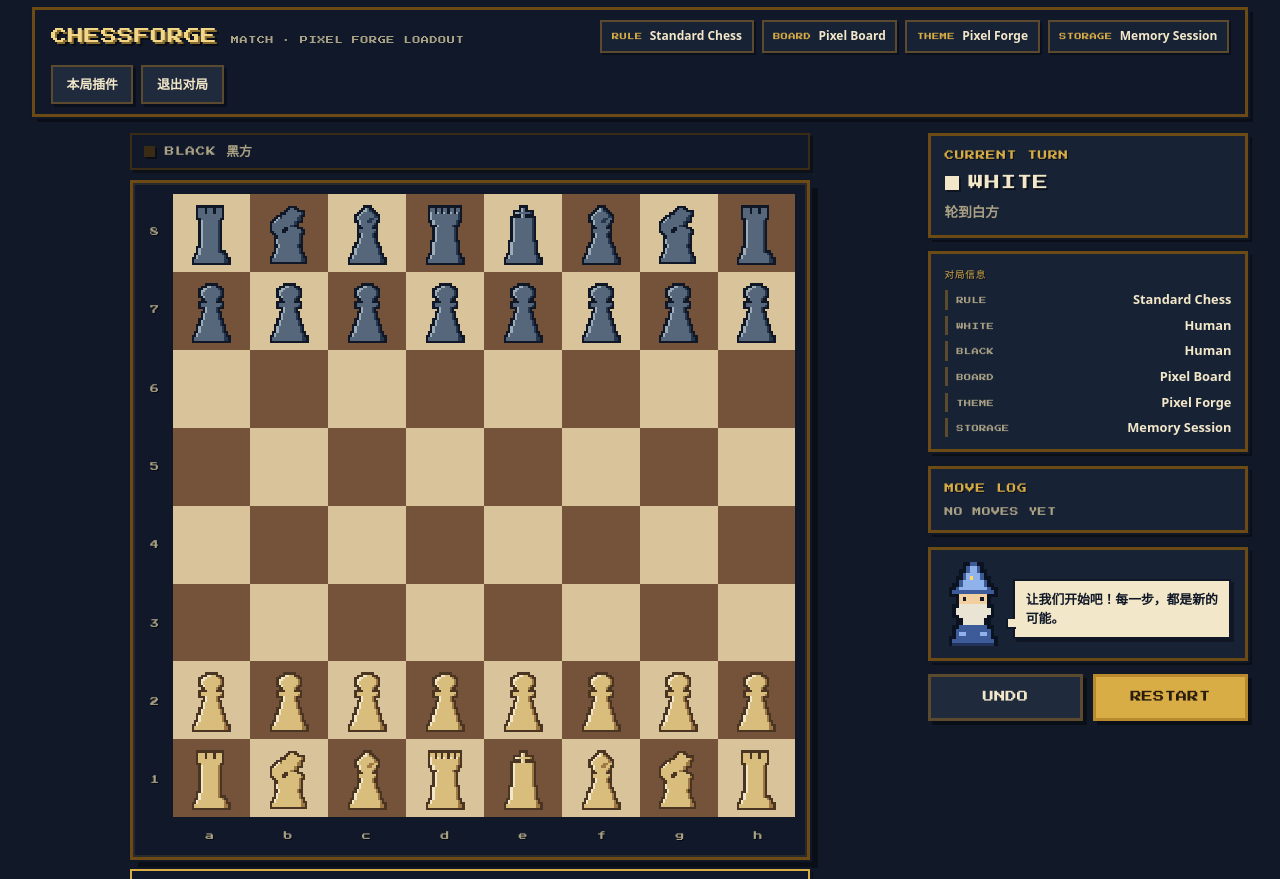
player bars frame the board and mark the side to move
The width and height of the screenshot is (1280, 879).
Click the element with test id "square-e2".
click(523, 700)  # box left=484, top=661, right=562, bottom=739
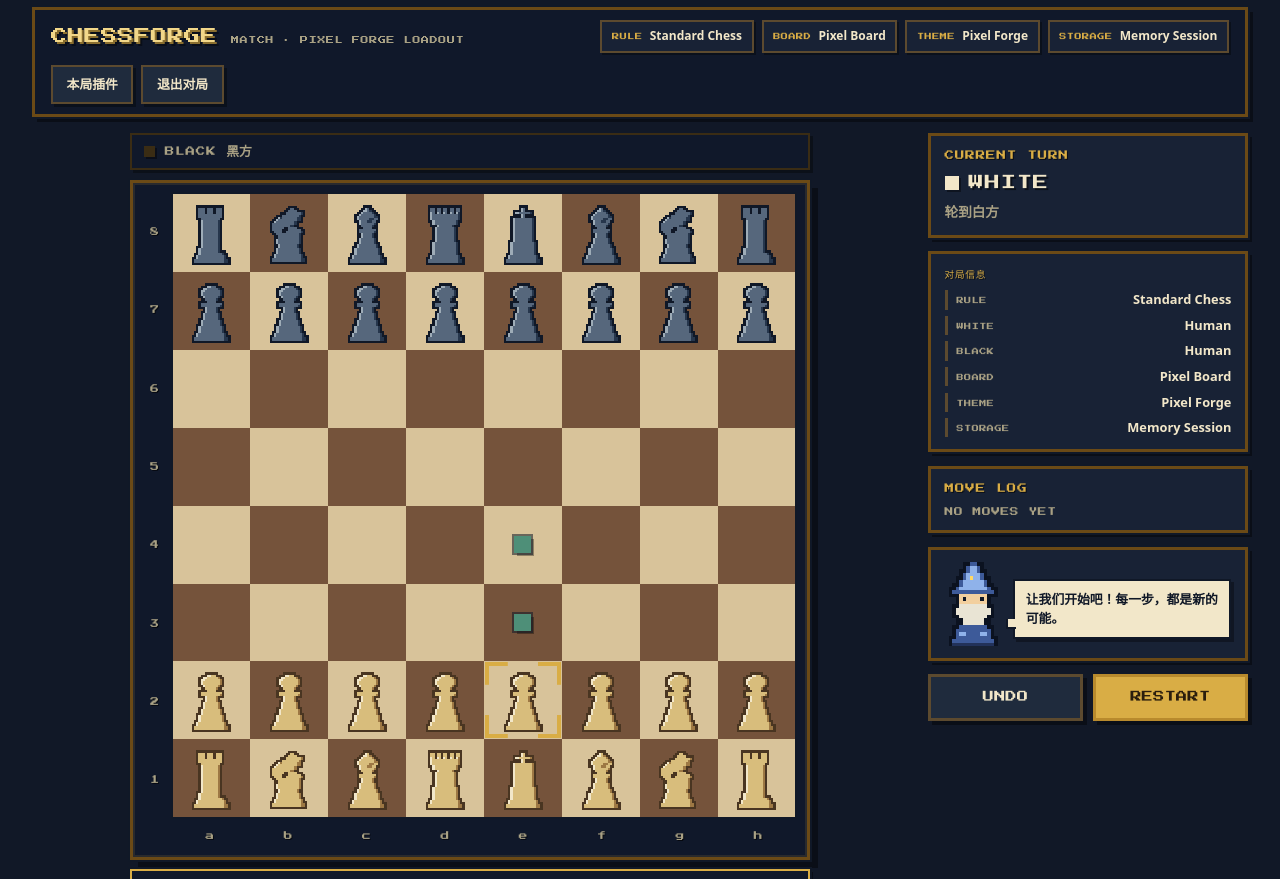
Click the element with test id "square-e4".
click(523, 545)  # box left=484, top=506, right=562, bottom=584
(page scrolled)
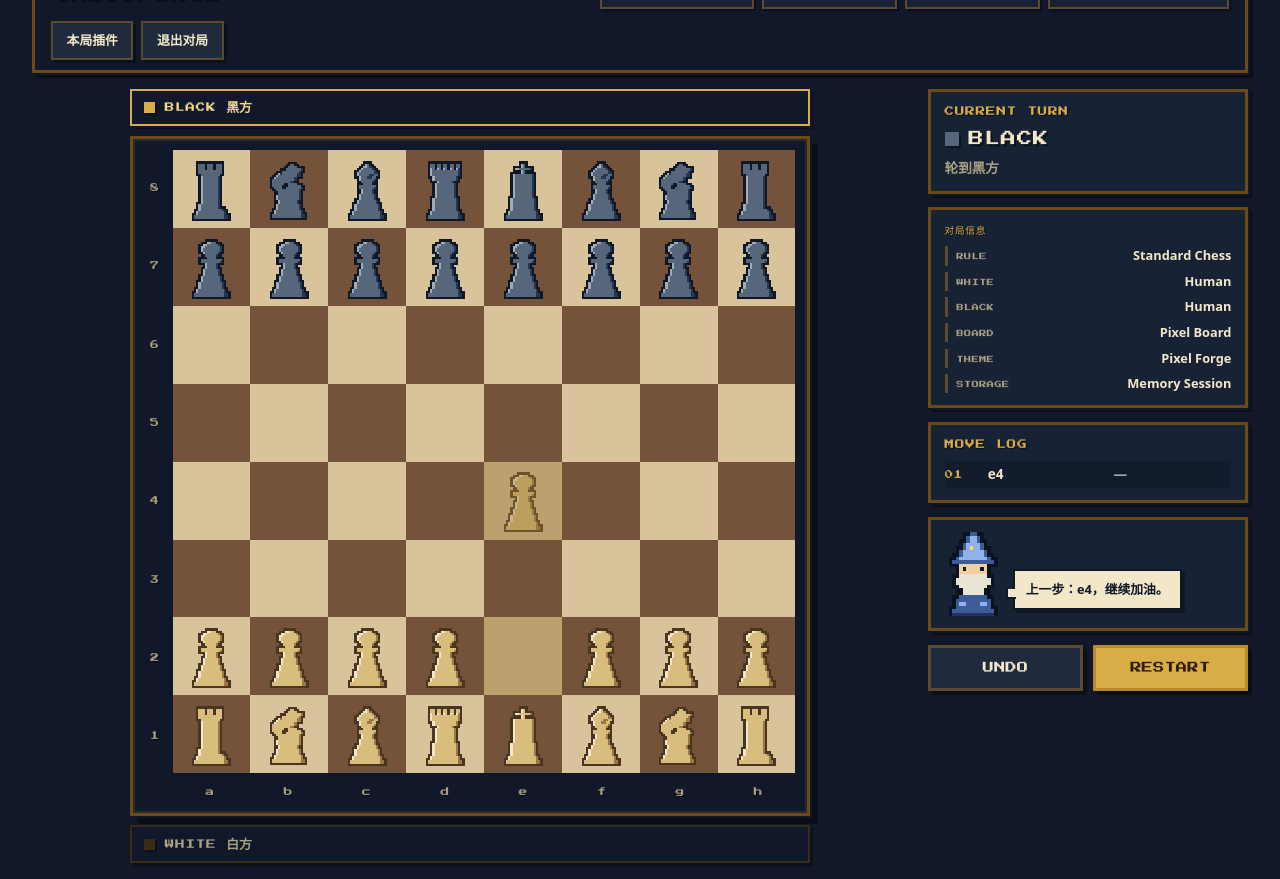
Check: the text "轮到黑方" is shown, box left=945, top=158, right=999, bottom=177
